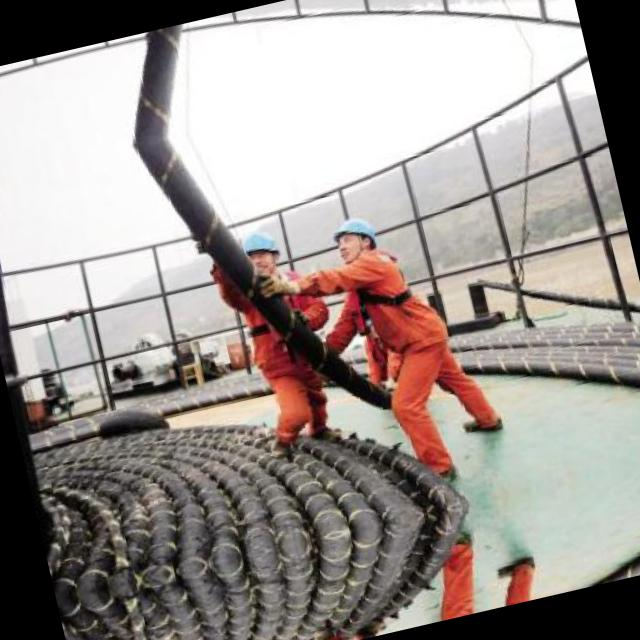helmet: (322, 205, 387, 268), (238, 222, 286, 281)
